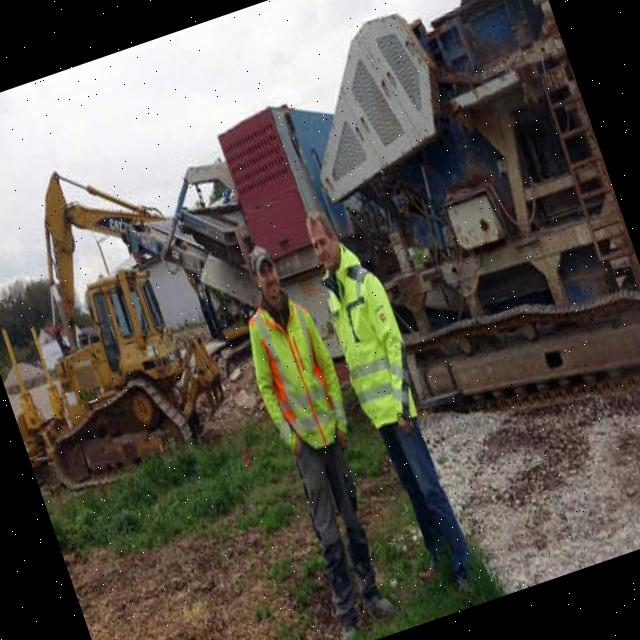Bulldozer: (0, 225, 248, 523)
